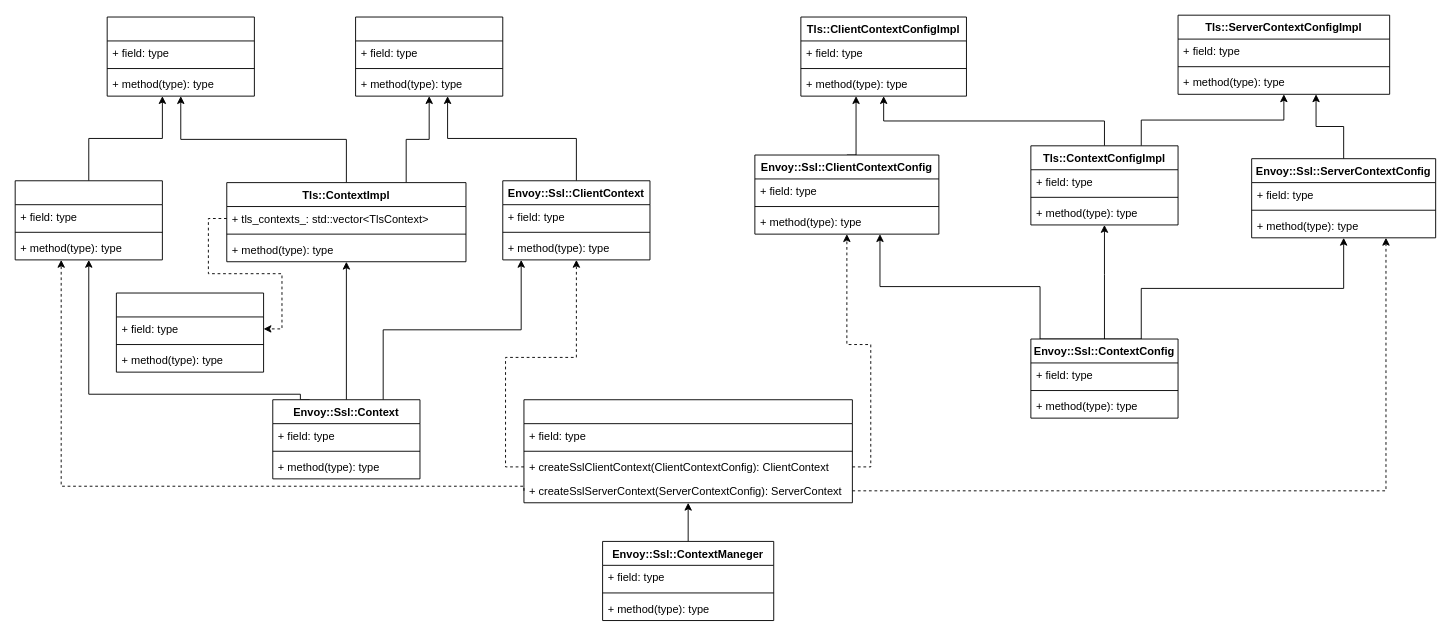
Image size: 1451x636. Some labels were removed from this diagram. Each missing label, with the box of its shape:
Envoy::Ssl::ServerContext: (14, 180, 162, 260)
Tls::ClientContextImpl: (355, 16, 503, 96)
Tls::ContextManagerImpl: (523, 399, 852, 503)
Tls::ServerContextImpl: (106, 16, 254, 96)
Tls::TlsContext: (115, 292, 264, 372)
